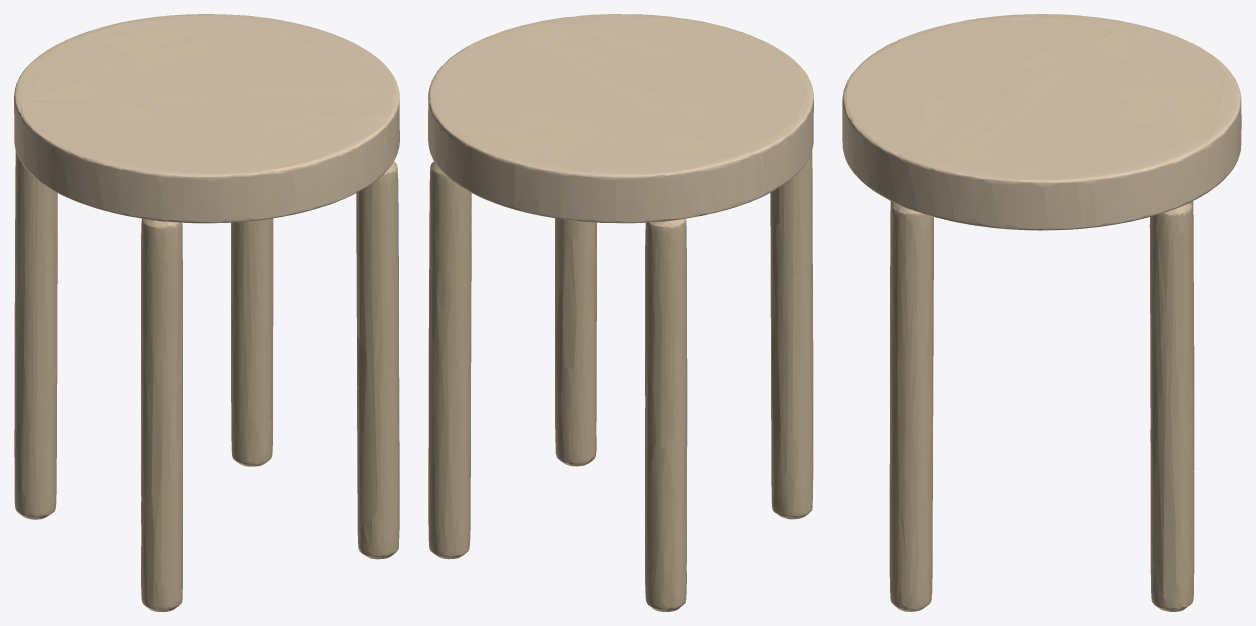
File: stool.glb
3 views of the same model, side by side, from view 1: azimuth 30°, elevation 25°; view 2: azimuth 150°, elevation 25°; view 3: azimuth 270°, elevation 25° (orthographic). The views are drawn at different scales.
Bounding box in the file's own units: 1.51 × 1.9 × 1.51.
1 material, 1 textured.
